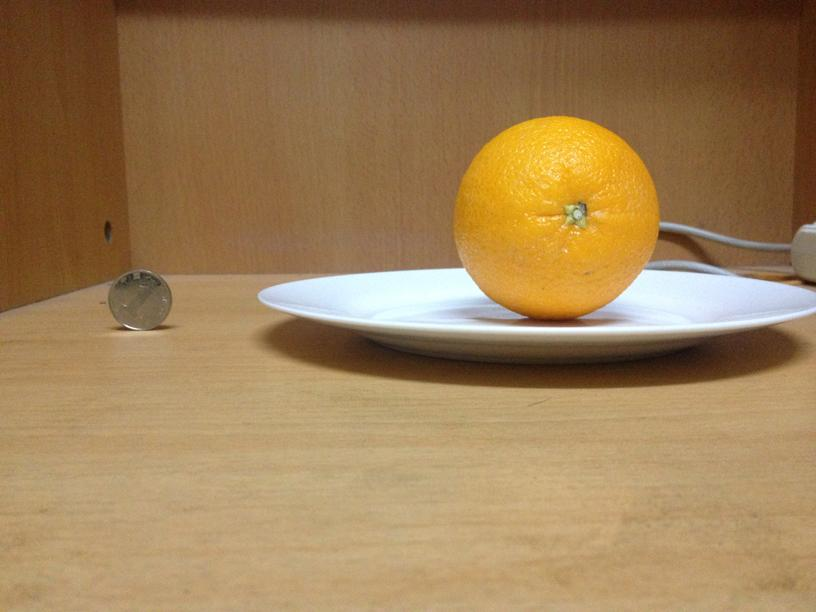coin: (106, 269, 170, 329)
orange: (451, 117, 662, 318)
